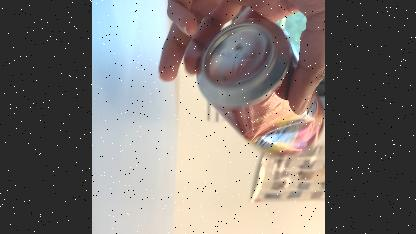Can: (188, 11, 308, 164)
